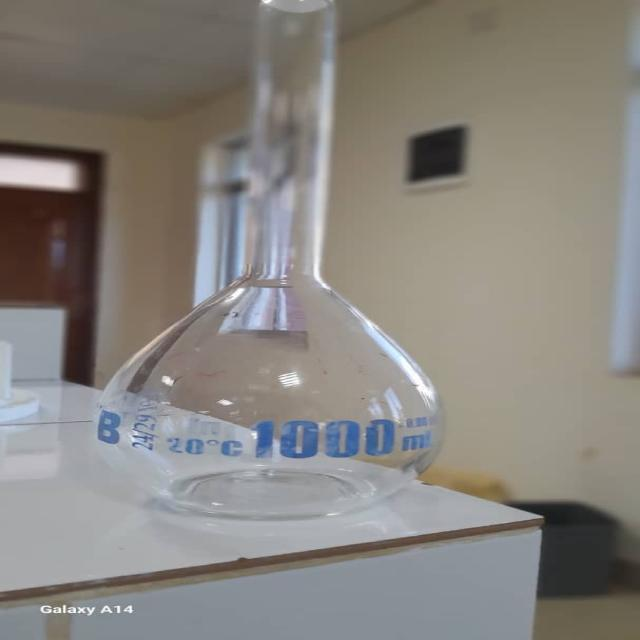Volumetric flask: (100, 0, 460, 514)
